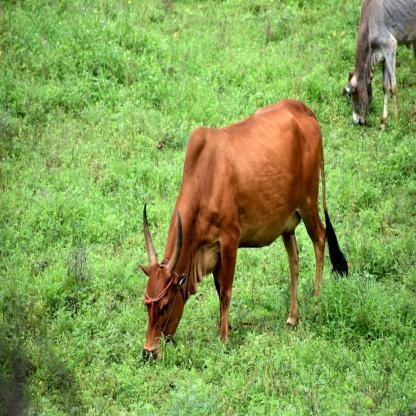cow: (145, 128, 343, 354), (336, 0, 416, 130)
